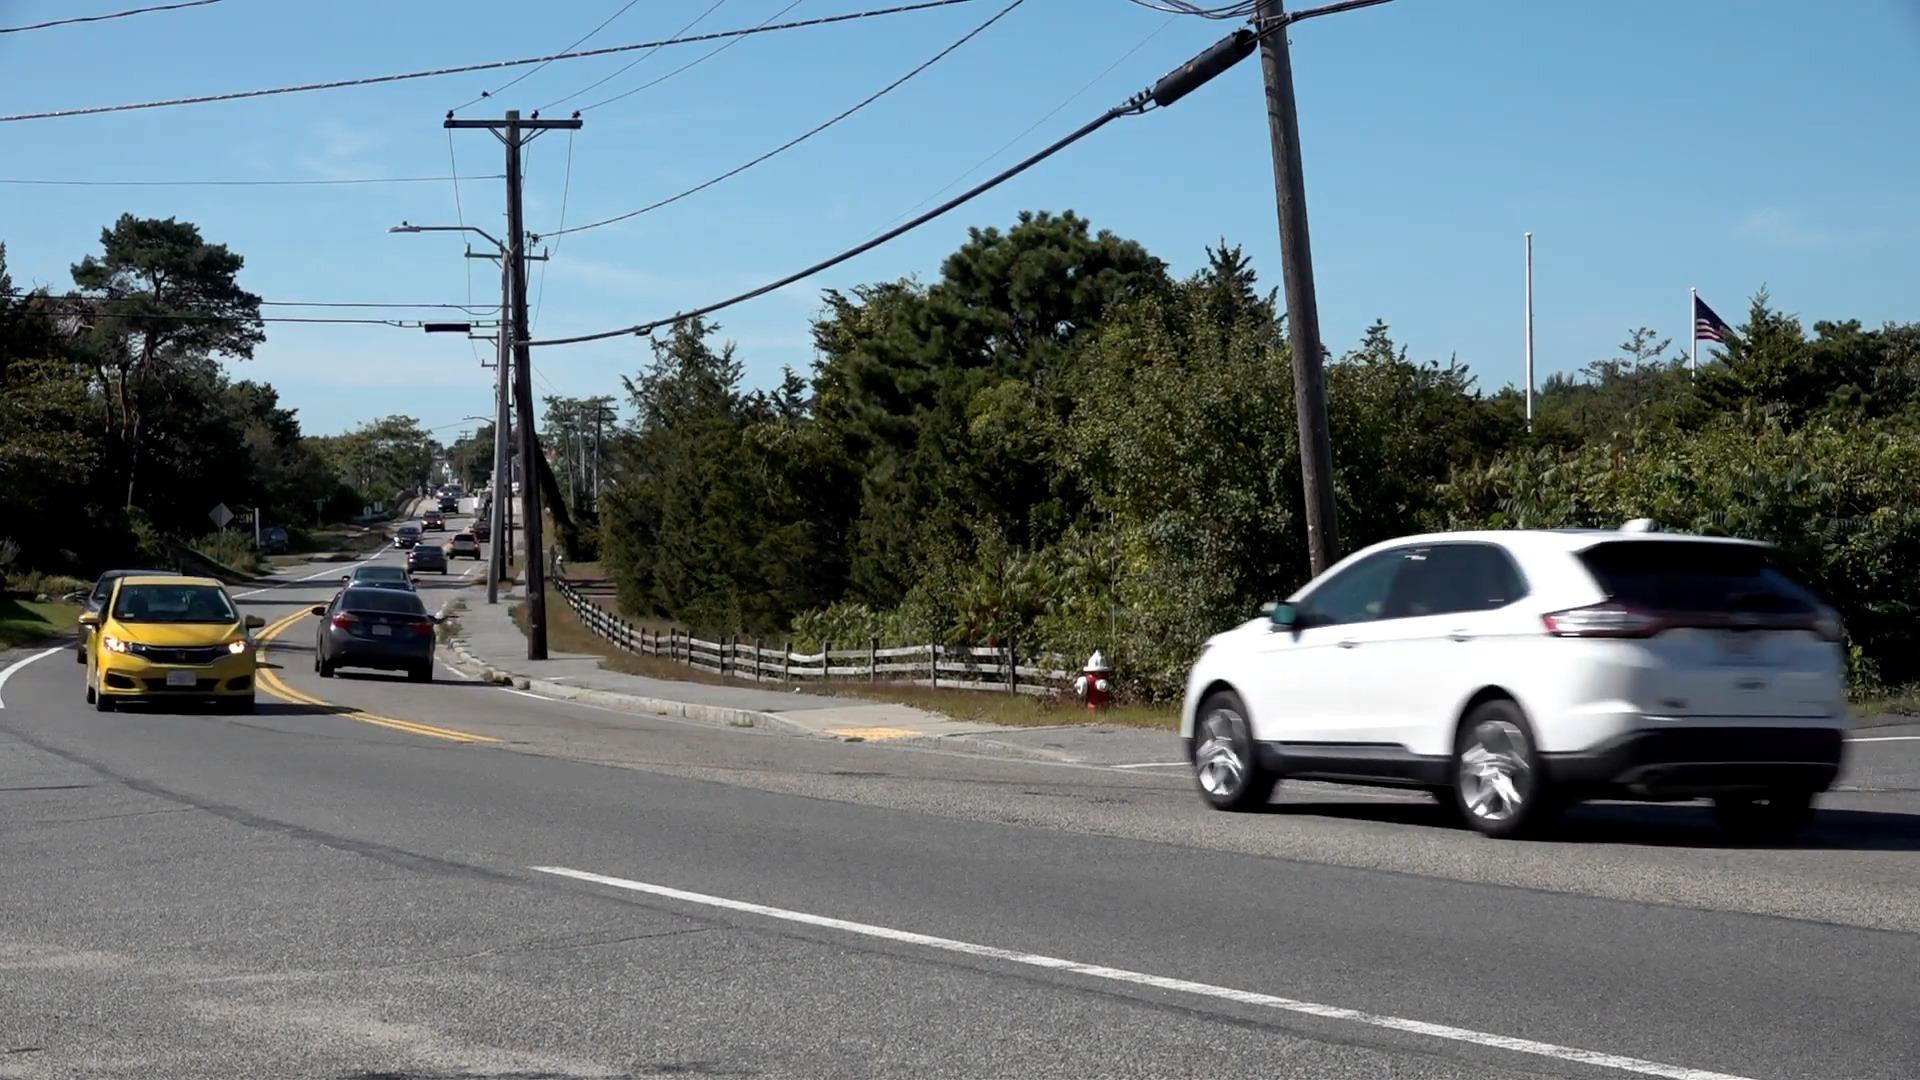sedans: (88, 579, 258, 713), (318, 588, 435, 684)
suv: (1176, 525, 1850, 839)
